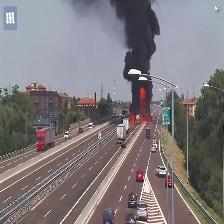fire: (129, 84, 153, 126)
